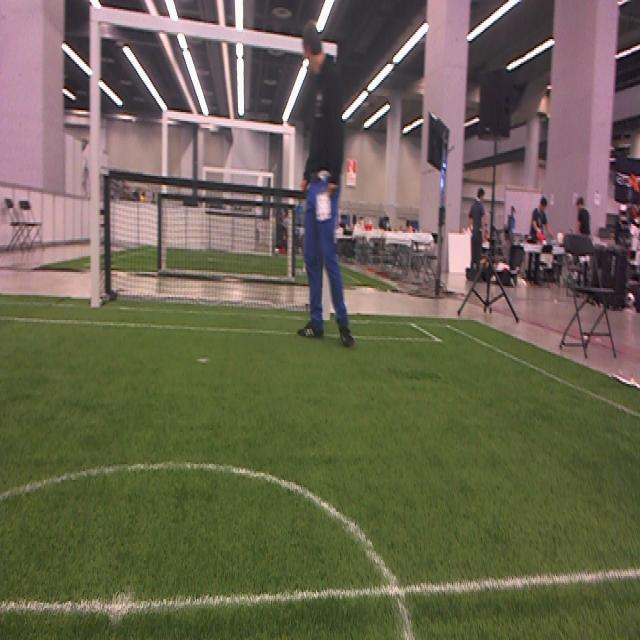goalpost: (90, 2, 100, 309), (321, 263, 332, 322)
